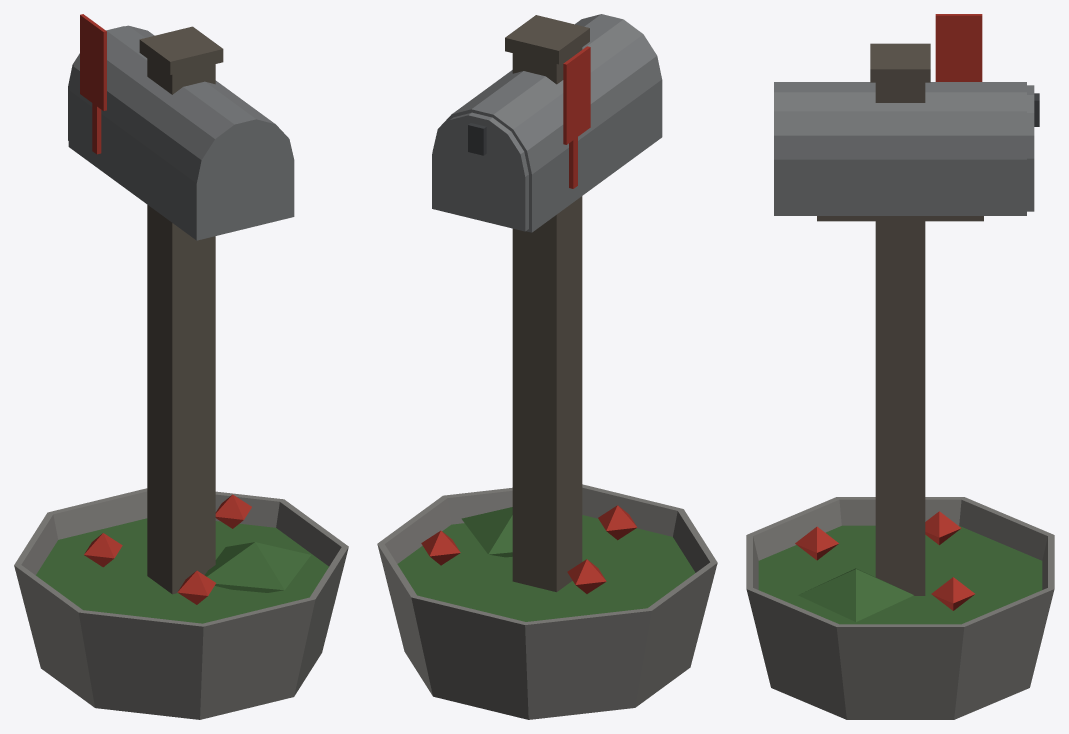
The model's file is mailbox-planter.glb.
3 views of the same model, side by side, from view 1: azimuth 30°, elevation 25°; view 2: azimuth 150°, elevation 25°; view 3: azimuth 270°, elevation 25° (orthographic). The views are drawn at different scales.
Visible parts, largest first — view 1: MailboxPlanter, Flag; view 2: MailboxPlanter, Flag; view 3: MailboxPlanter, Flag.
Part boxes in pixels (x1,y1,x2,y2): MailboxPlanter: (14, 25, 348, 719); Flag: (80, 14, 106, 154); MailboxPlanter: (377, 14, 717, 719); Flag: (563, 46, 590, 188); MailboxPlanter: (746, 43, 1054, 719); Flag: (935, 14, 982, 81).
Size of the model in its own units: 0.5543 by 1.24 by 0.5543.
